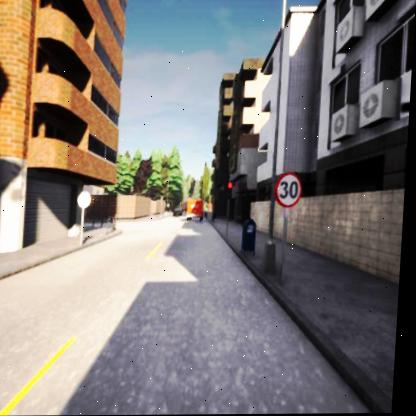vehicle: (188, 198, 208, 221)
